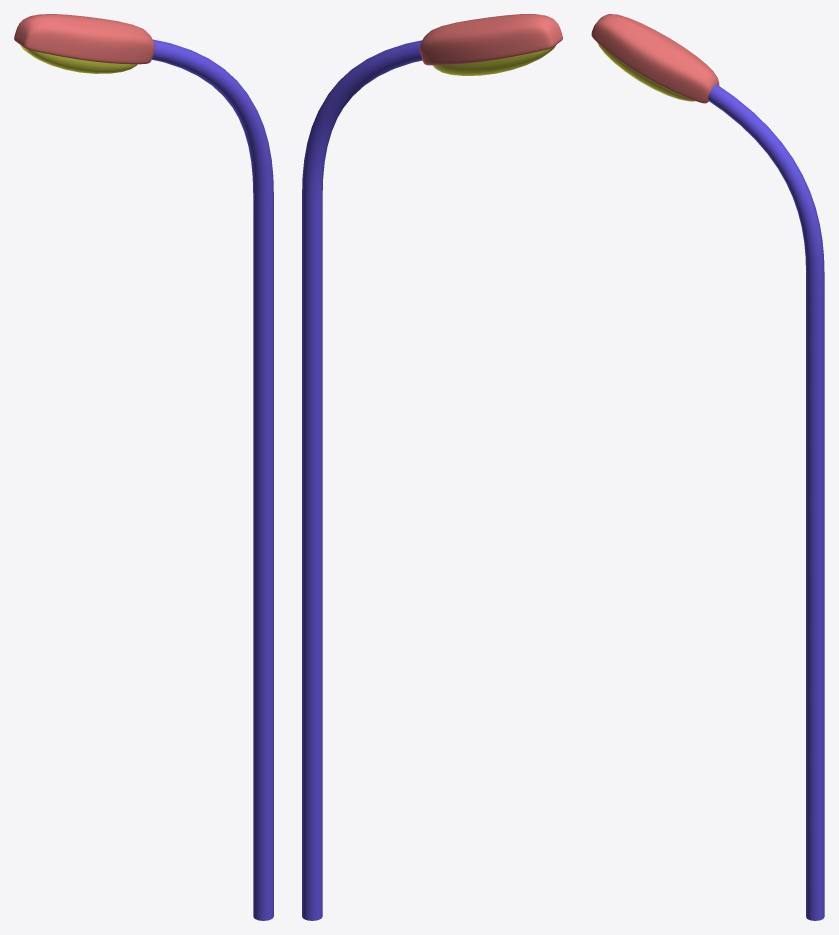
The model's file is street-light.gltf.
3 views of the same model, side by side, from view 1: azimuth 30°, elevation 25°; view 2: azimuth 150°, elevation 25°; view 3: azimuth 330°, elevation 25° (orthographic). The views are drawn at different scales.
Visible parts, largest first — view 1: StreetLightBody.001, StreetLightCover.001, StreetLightBulb.001; view 2: StreetLightBody.001, StreetLightCover.001, StreetLightBulb.001; view 3: StreetLightBody.001, StreetLightCover.001, StreetLightBulb.001.
Part boxes in pixels (bbox=[...]): StreetLightBody.001: bbox=[152, 39, 273, 920]; StreetLightCover.001: bbox=[14, 14, 154, 64]; StreetLightBulb.001: bbox=[20, 45, 137, 73]; StreetLightBody.001: bbox=[302, 40, 422, 920]; StreetLightCover.001: bbox=[419, 14, 562, 65]; StreetLightBulb.001: bbox=[433, 45, 555, 75]; StreetLightBody.001: bbox=[708, 84, 824, 920]; StreetLightCover.001: bbox=[591, 14, 719, 103]; StreetLightBulb.001: bbox=[597, 43, 695, 101].
Size of the model in its own units: 1.13 by 4.07 by 0.2147.
